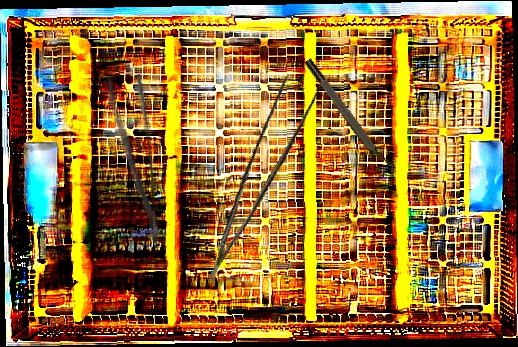Dressing Forceps: (104, 72, 163, 248)
Fixation Ring: (302, 53, 398, 179)
Tissue Forceps: (176, 66, 329, 282)
